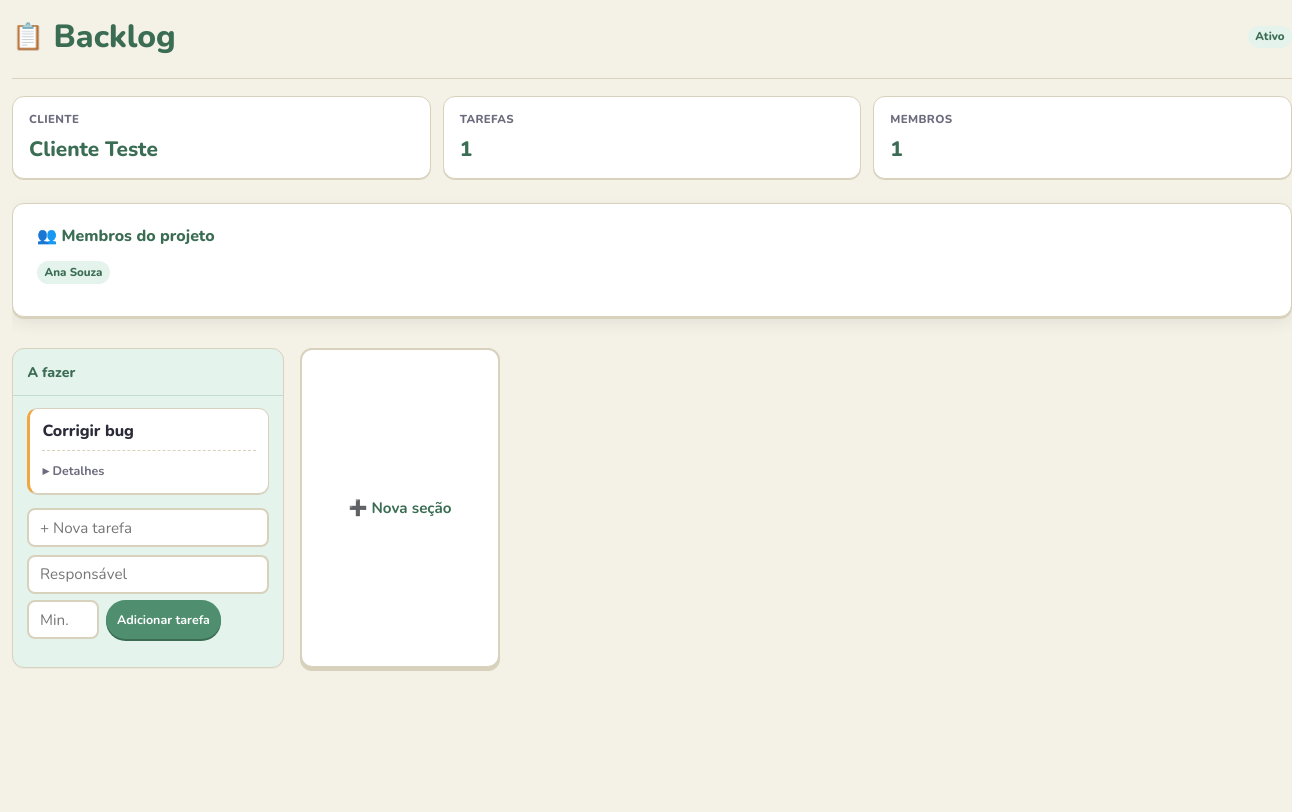
ProjetoDetalhePage › cria uma tarefa na coluna certa e ela aparece sem reload manual
Check: the button "Corrigir bug" is shown, box [42, 420, 134, 442]
Type "Escrever testes" into the field labelled "+ Nova tarefa" at (148,528), box [27, 508, 269, 547]
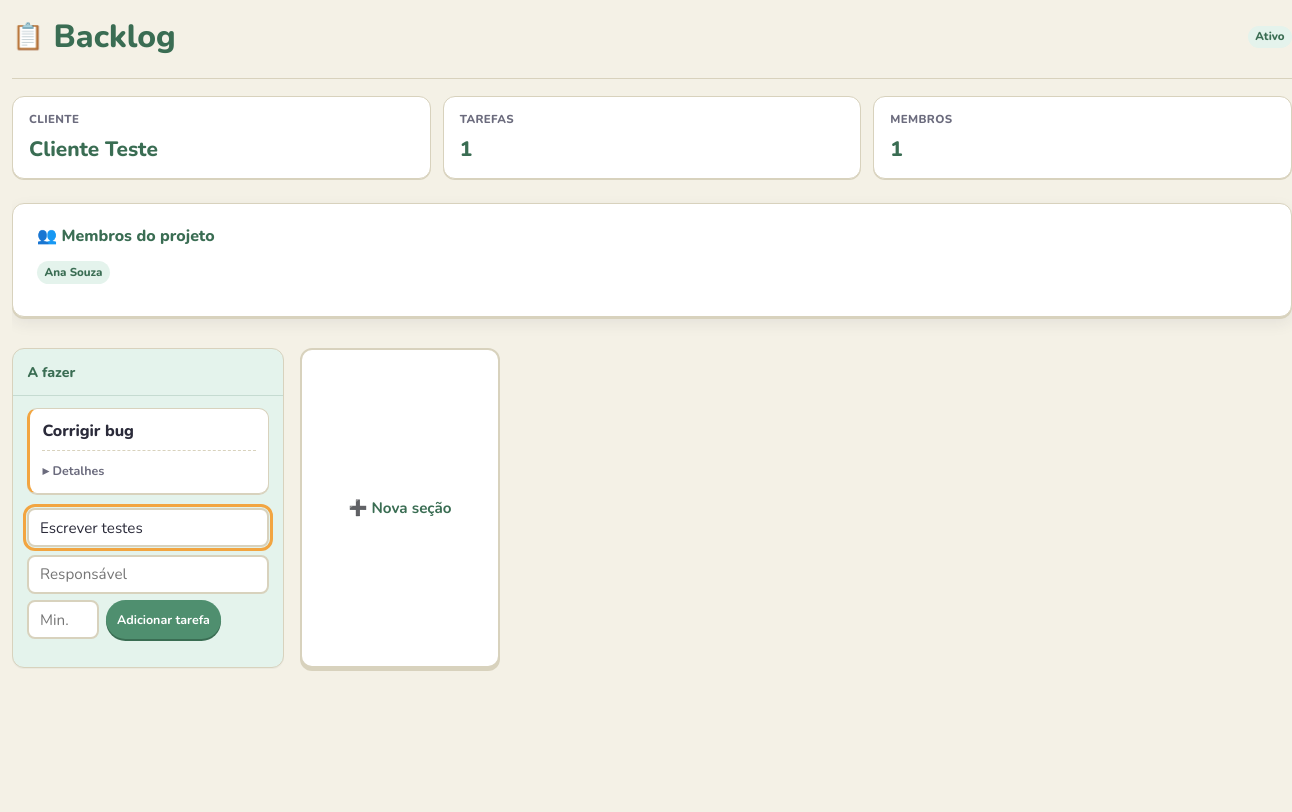
Click the button "Adicionar tarefa" at (164,620), box [106, 600, 221, 639]
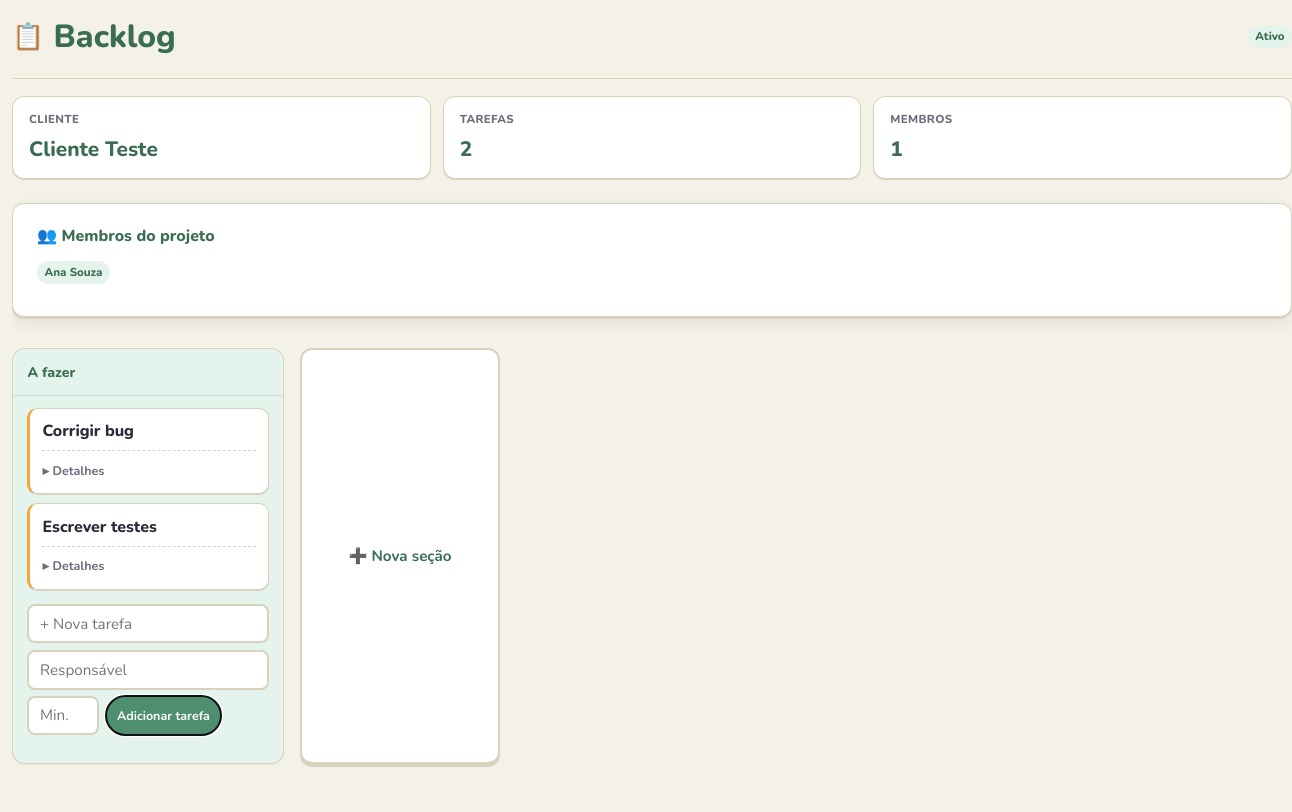
Check: the button "Escrever testes" is shown, box [42, 516, 157, 538]
